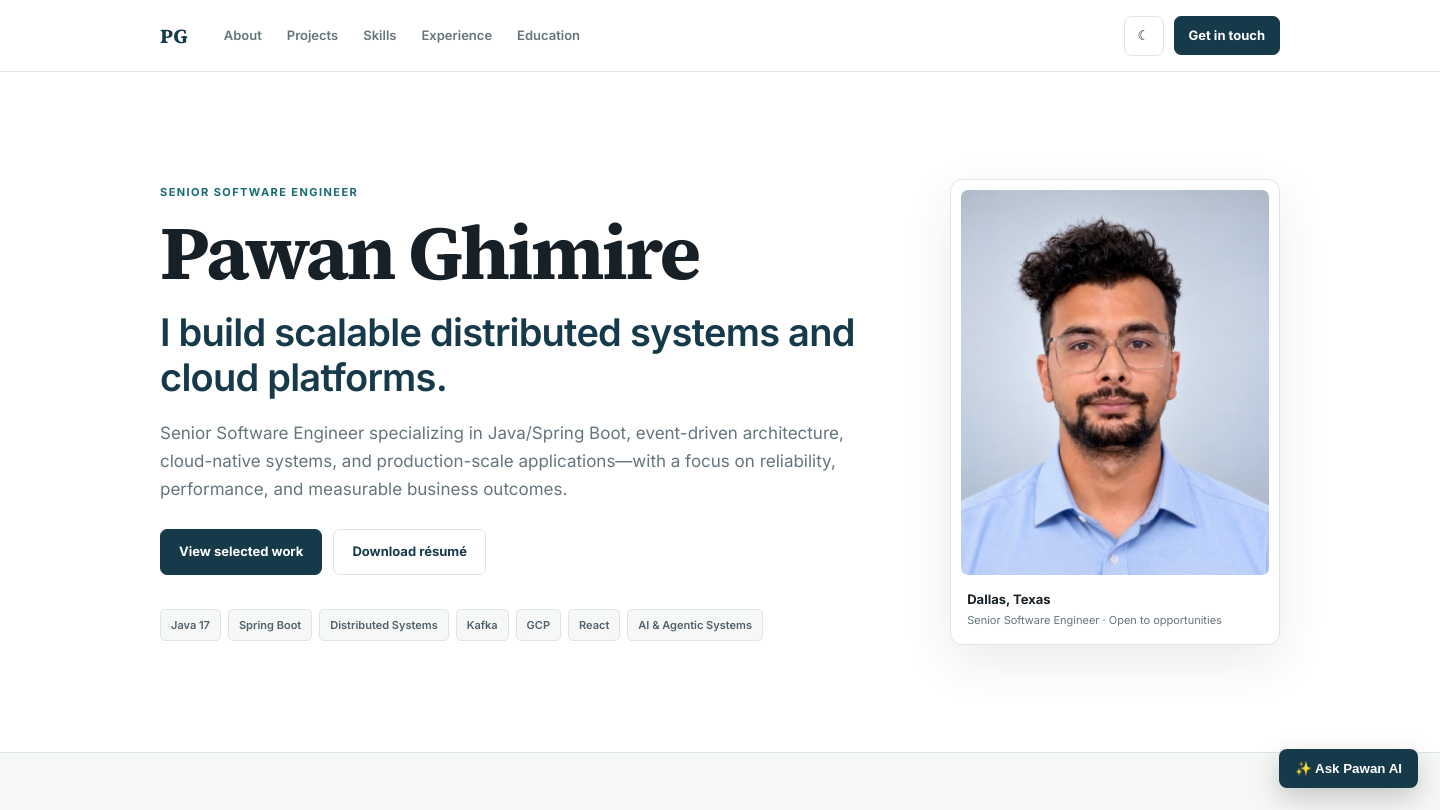
portfolio › opens the guided assistant
Click the button "✨ Ask Pawan AI".
click(1349, 768)  # box [1279, 749, 1418, 788]
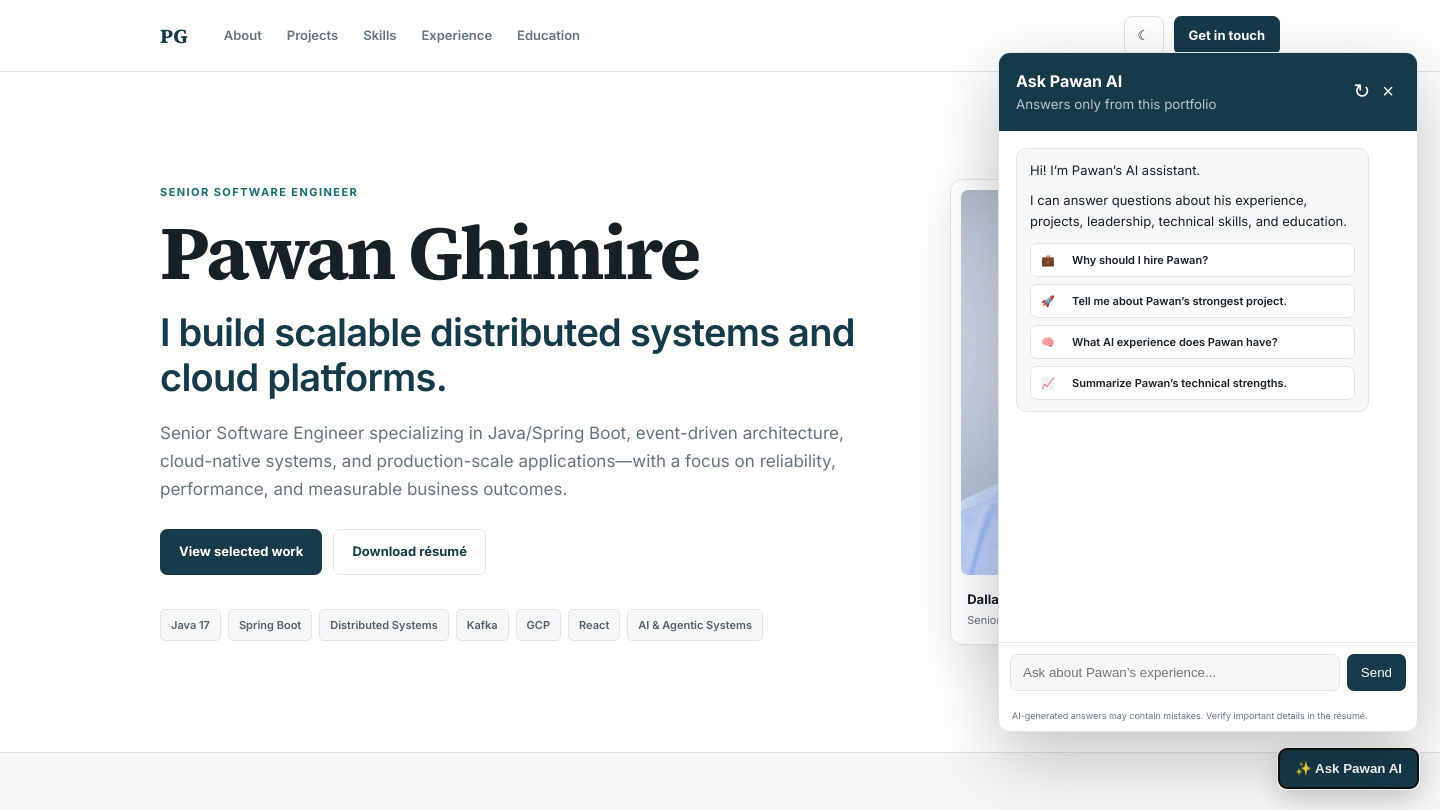
Expected: the element named "Ask Pawan AI portfolio assistant" is shown, [998, 52, 1418, 732]
Expected: the button "💼 Why should I hire Pawan?" is shown, [1030, 243, 1355, 277]
